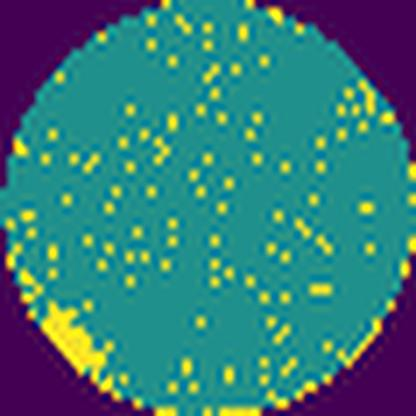Edge-Loc: (38, 295, 119, 386)
